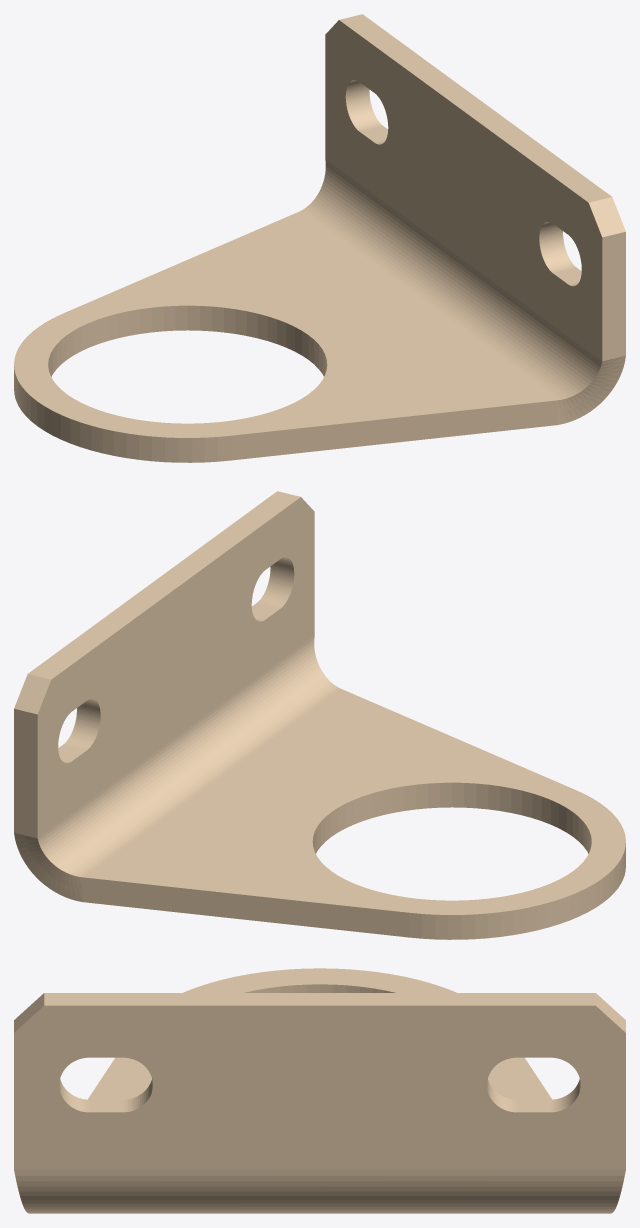
File: Air_Pressure_Regulator_Mounting_Bracket.glb
The picture shows the model from 3 angles, top to bottom: view 1: azimuth 30°, elevation 25°; view 2: azimuth 150°, elevation 25°; view 3: azimuth 270°, elevation 25°; orthographic projection. The views are drawn at different scales.
Parts seen in each view (by area): view 1: Air Pressure Regulator Mounting Bracket; view 2: Air Pressure Regulator Mounting Bracket; view 3: Air Pressure Regulator Mounting Bracket.
Part boxes in pixels (x1,y1,x2,y2): Air Pressure Regulator Mounting Bracket: (14, 14, 625, 462); Air Pressure Regulator Mounting Bracket: (14, 491, 625, 939); Air Pressure Regulator Mounting Bracket: (14, 968, 625, 1213).
Size of the model in its own units: 1.5 by 0.6693 by 1.59.
